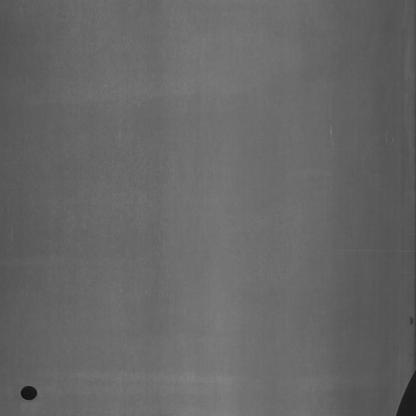crescent_gap: (392, 366, 416, 416)
punching_hole: (18, 382, 40, 406)
